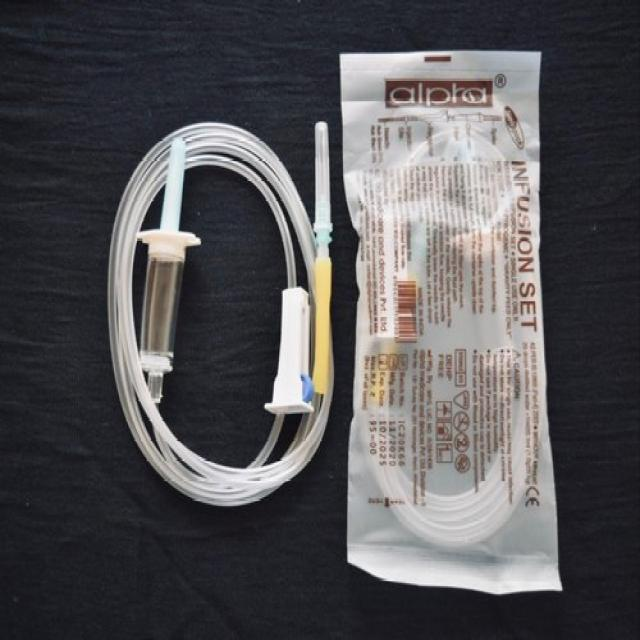B3: (100, 109, 344, 511)
